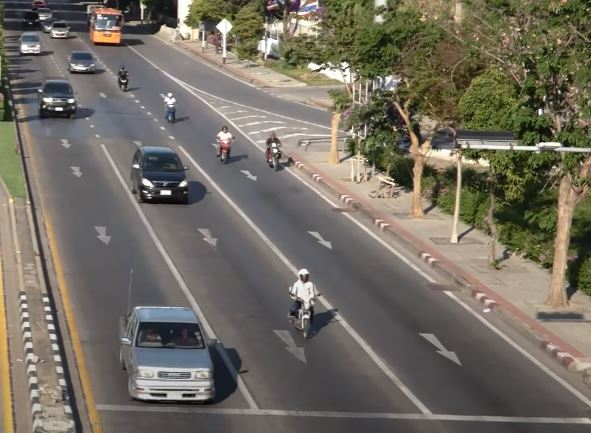Bus: (90, 7, 123, 46)
Car: (118, 304, 214, 405), (129, 145, 190, 206), (38, 78, 76, 118), (67, 50, 95, 74), (19, 32, 42, 57), (49, 21, 70, 40)
Motorcycle: (288, 266, 321, 338), (217, 125, 235, 163), (266, 131, 283, 170), (165, 92, 178, 123), (117, 64, 130, 93)
